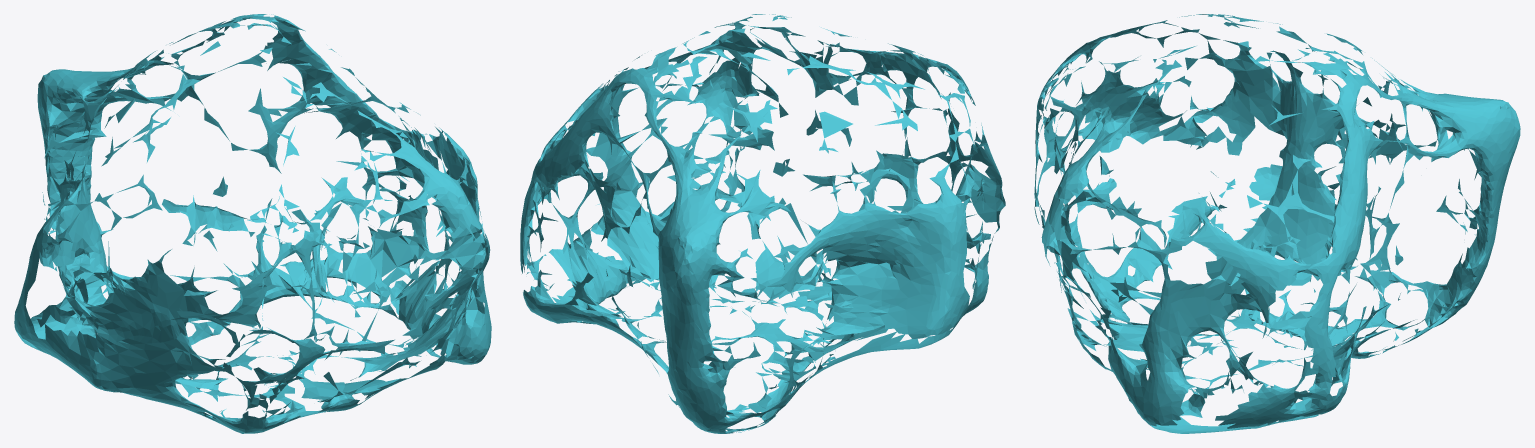
The picture shows the model from 3 angles, left to right: view 1: azimuth 30°, elevation 25°; view 2: azimuth 150°, elevation 25°; view 3: azimuth 270°, elevation 25°; orthographic projection. The views are drawn at different scales.
Visible parts, largest first — view 1: Renderer Node; view 2: Renderer Node; view 3: Renderer Node.
Part boxes in pixels (<box>): Renderer Node: <box>14,14,491,433</box>; Renderer Node: <box>520,14,1005,433</box>; Renderer Node: <box>1034,14,1520,433</box>.
Bounding box in the file's own units: 0.7593 × 0.5855 × 0.7749.
1 material, 1 textured.
